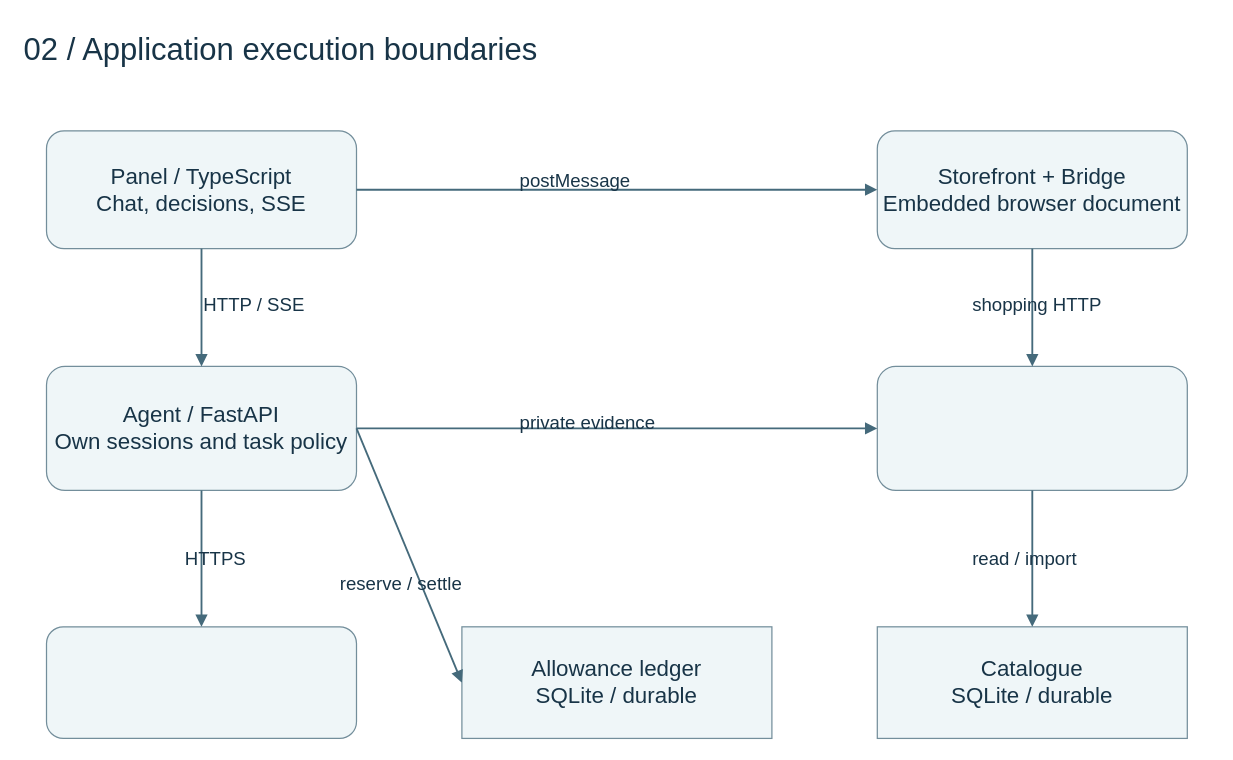
Image size: 1233x760. Some labels were removed from this diagram. Each missing label, with the centre of its shape:
"Configured model Structured proposals" belongs at pixel 200 682.
"Storefront / Express Own per-Shopper commerce" belongs at pixel 1031 427.
